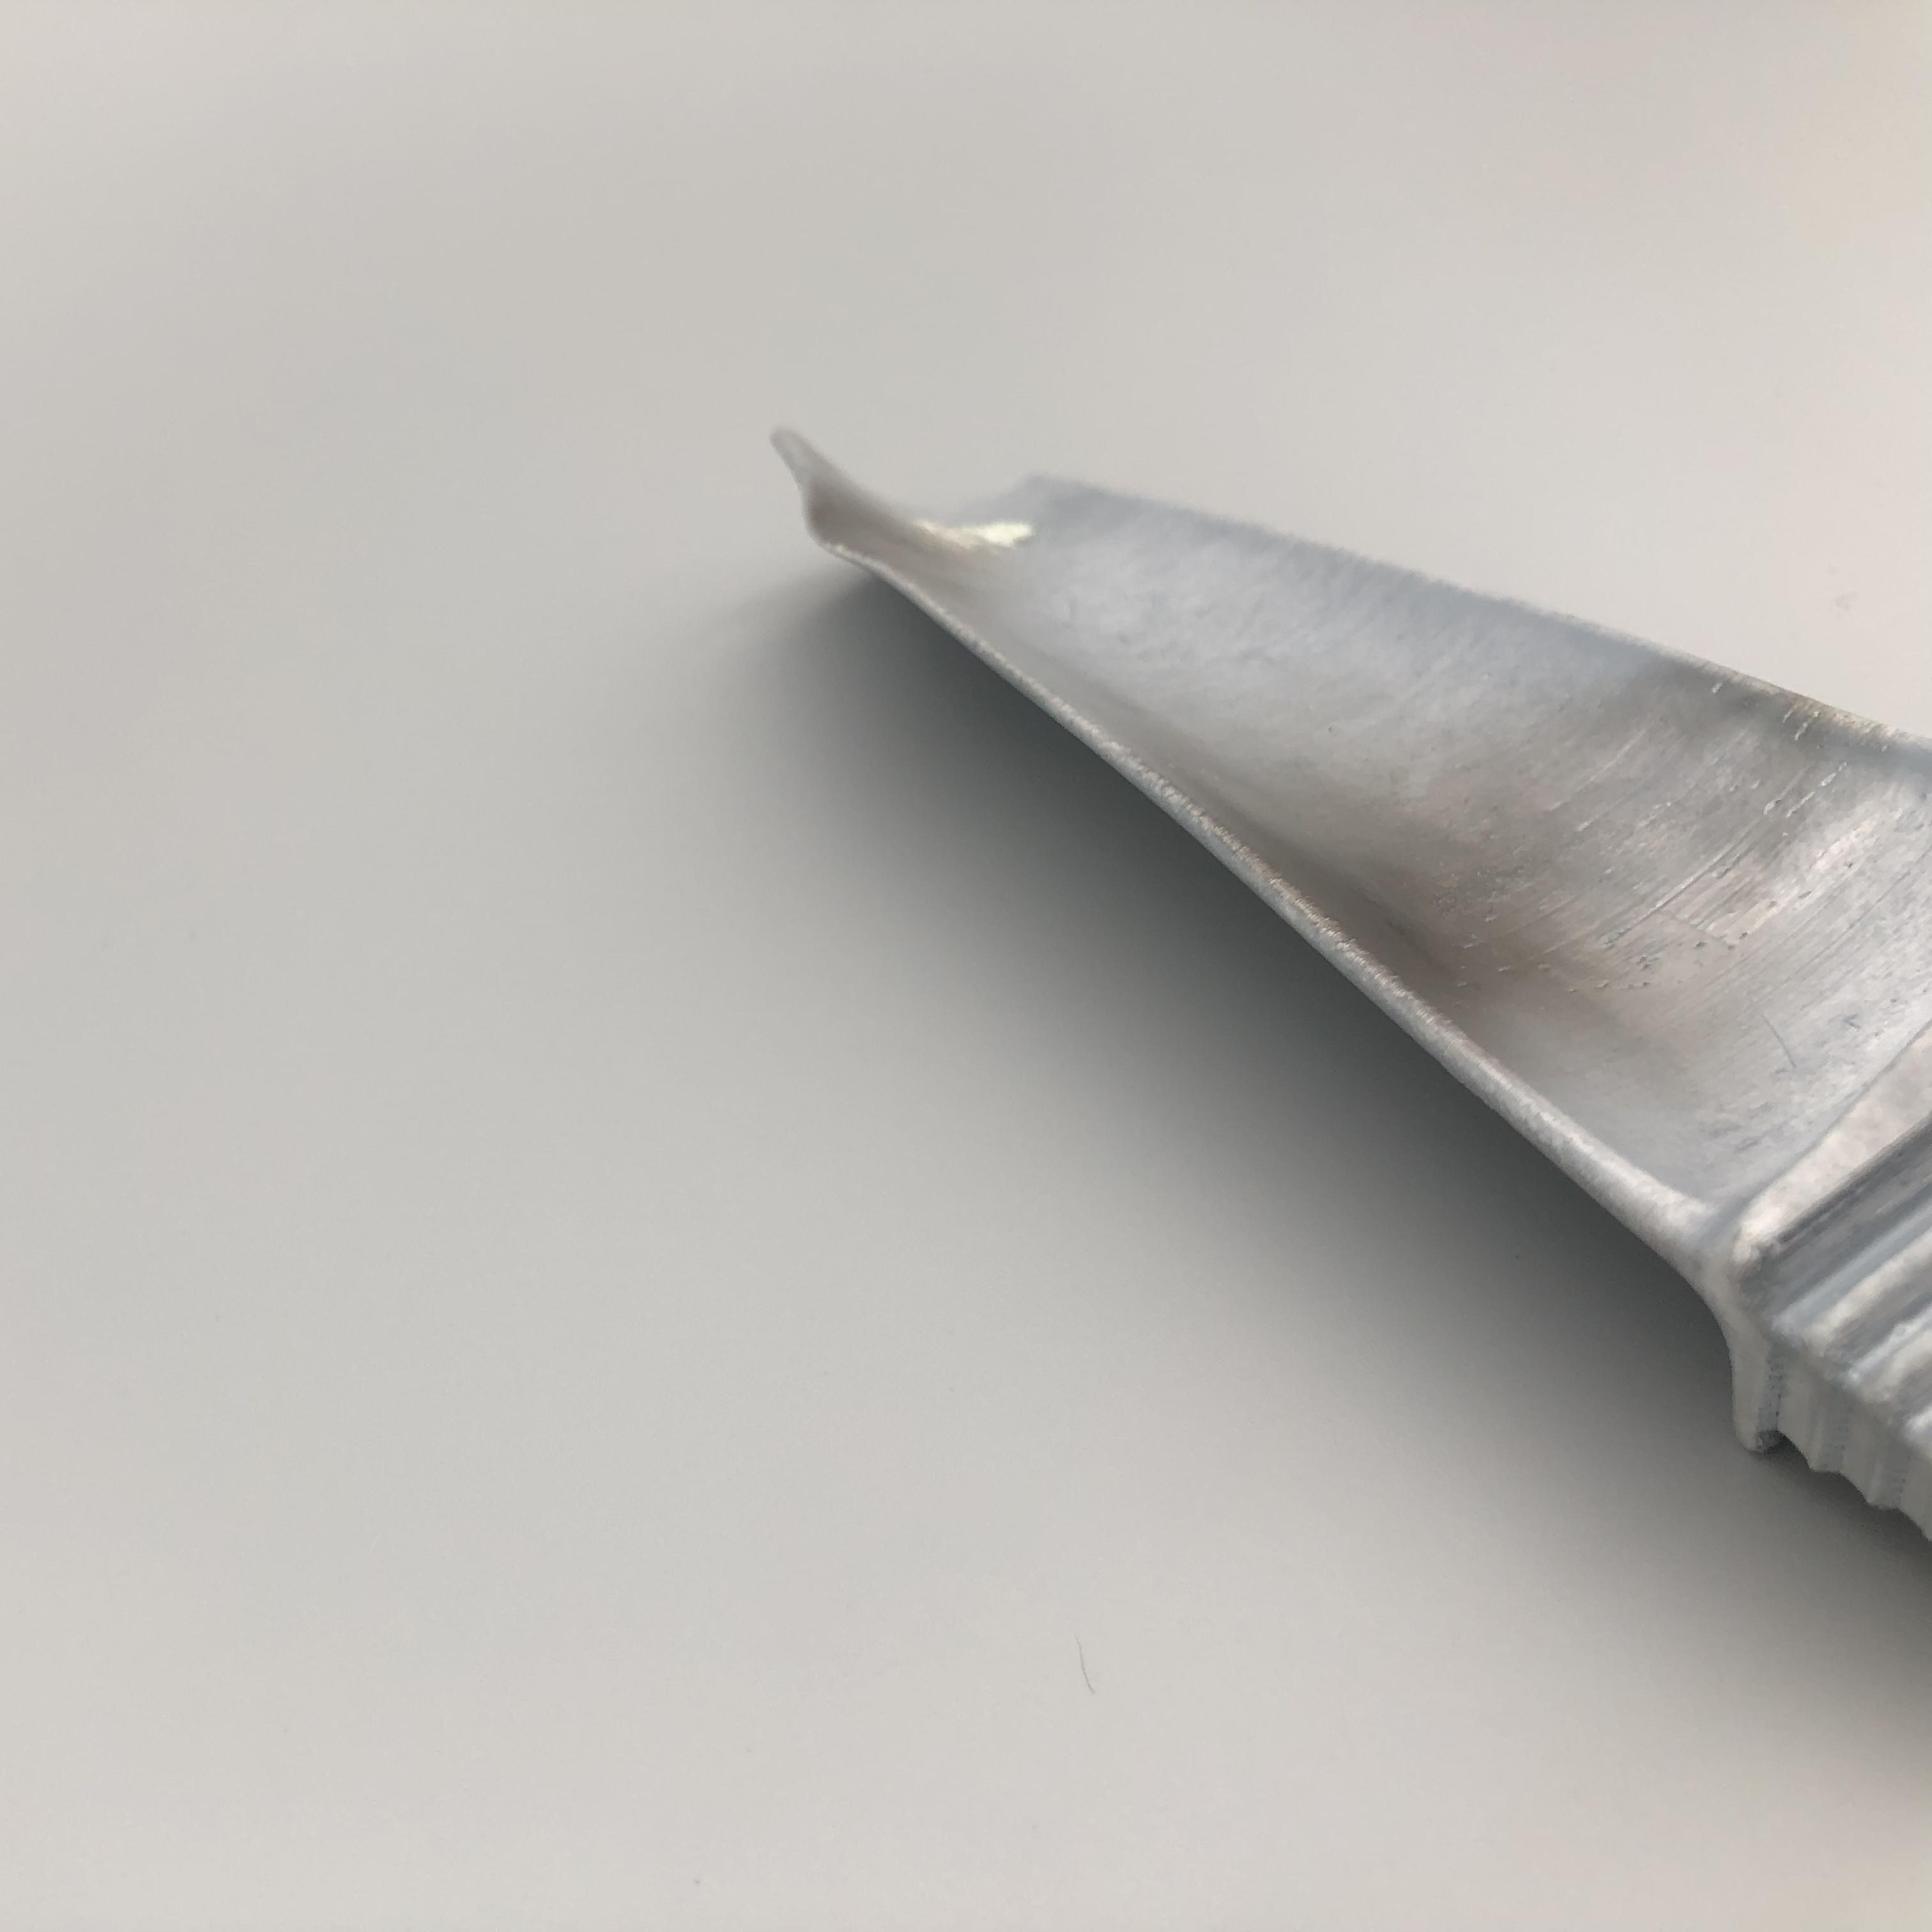ablation: (1270, 807, 1649, 998), (830, 488, 975, 591)
